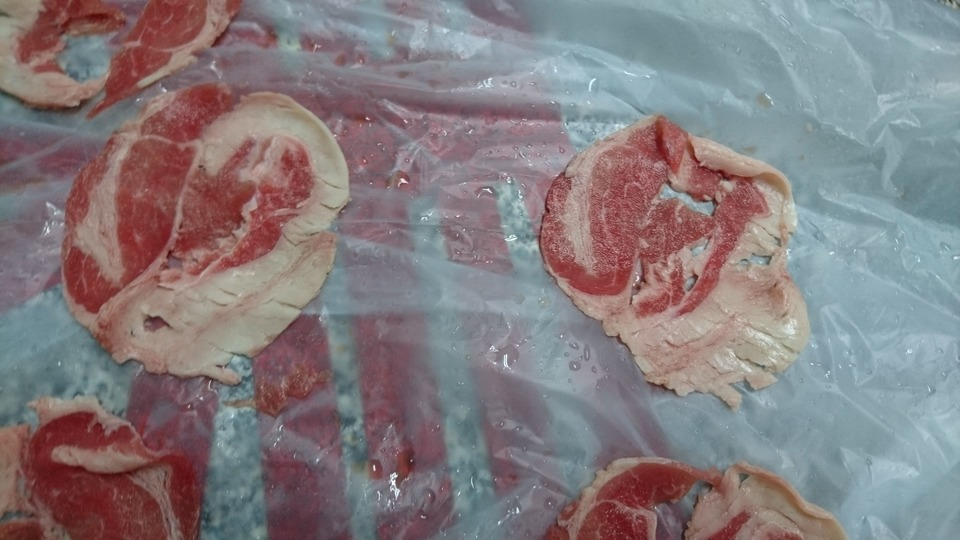restructured meat: (62, 84, 348, 387), (528, 106, 814, 409), (542, 450, 837, 540)
